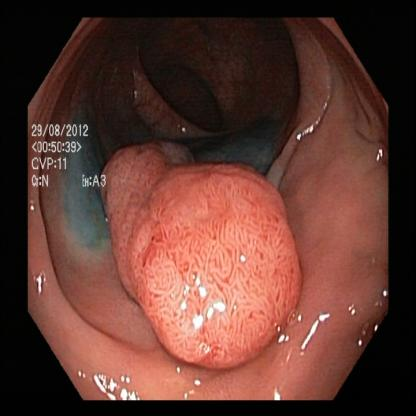Labels: (31, 116, 110, 202)
Polyps: (114, 160, 290, 362)
